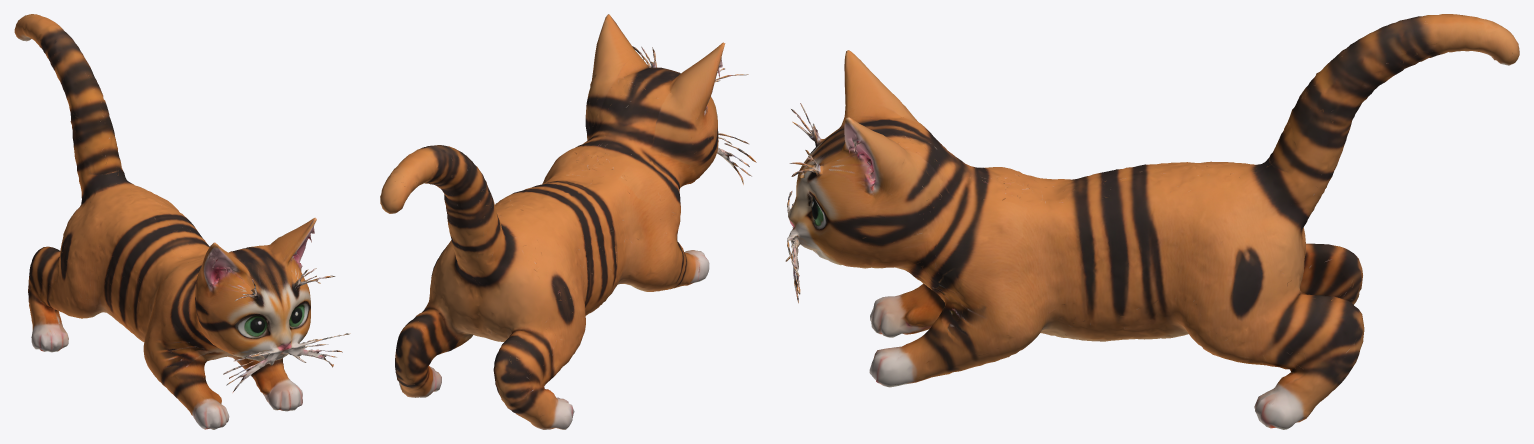
The model's file is cat.glb.
The picture shows the model from 3 angles, left to right: view 1: azimuth 30°, elevation 25°; view 2: azimuth 150°, elevation 25°; view 3: azimuth 270°, elevation 25°; orthographic projection. The views are drawn at different scales.
Size of the model in its own units: 0.6081 by 1.05 by 1.9.
Materials: 1 (1 with a texture image).
